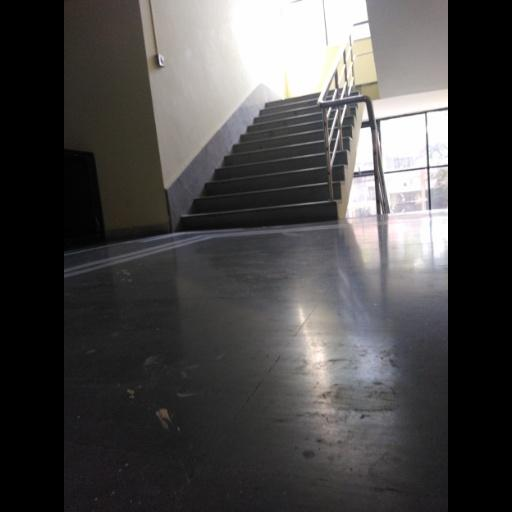stairs: (180, 94, 356, 230)
